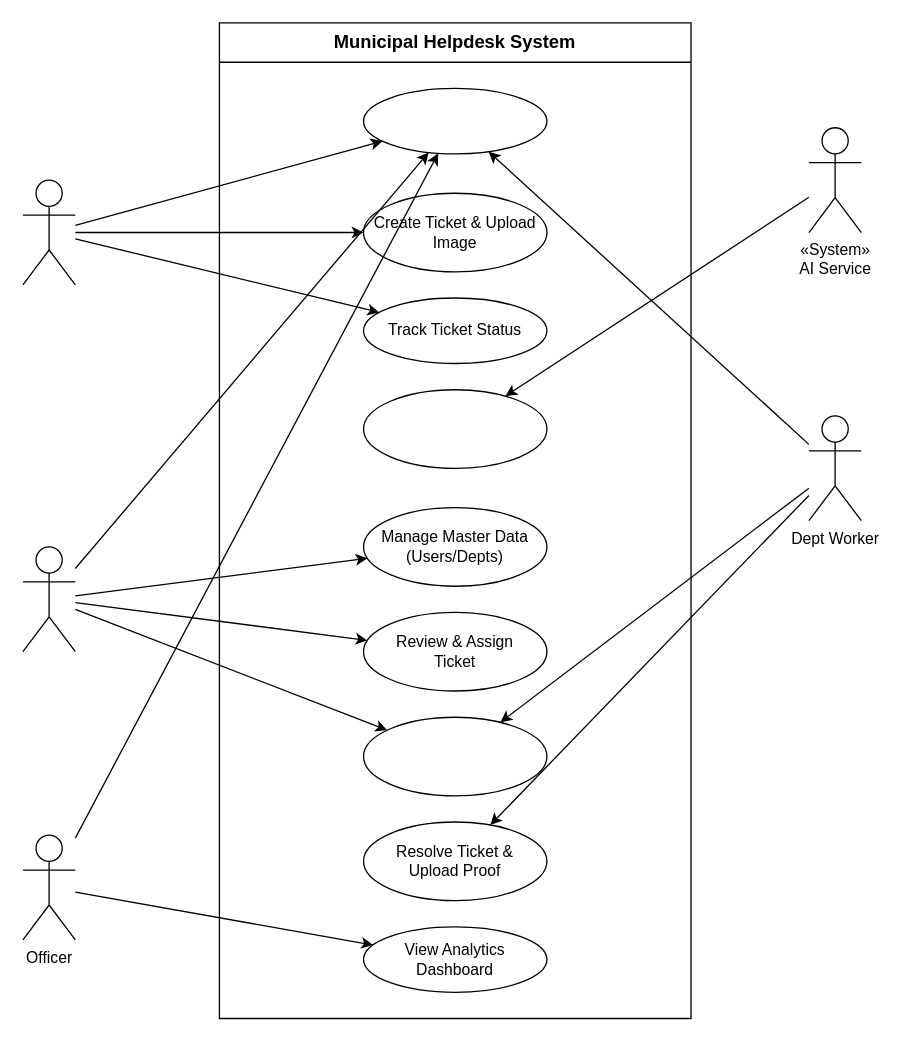
Image size: 901x1041. Some labels were removed from this diagram. The centre of each missing label's shape, as x and y in pixels:
"Admin" belongs at point 48,599.
"Citizen" belongs at point 48,232.
"Classify Image & Recommend Dept" belongs at point 454,428.
"Handle Escalated Tickets" belongs at point 454,756.
"Register / Login" belongs at point 454,120.
